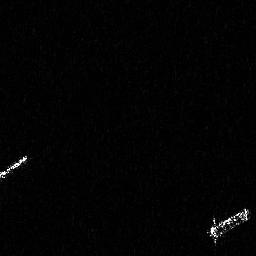ship: (206, 202, 252, 248), (1, 152, 31, 185)
